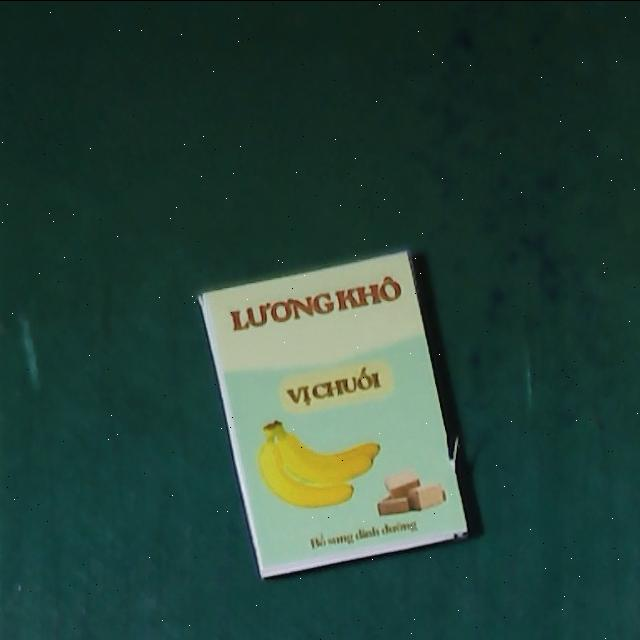chuoi: (198, 248, 471, 581)
